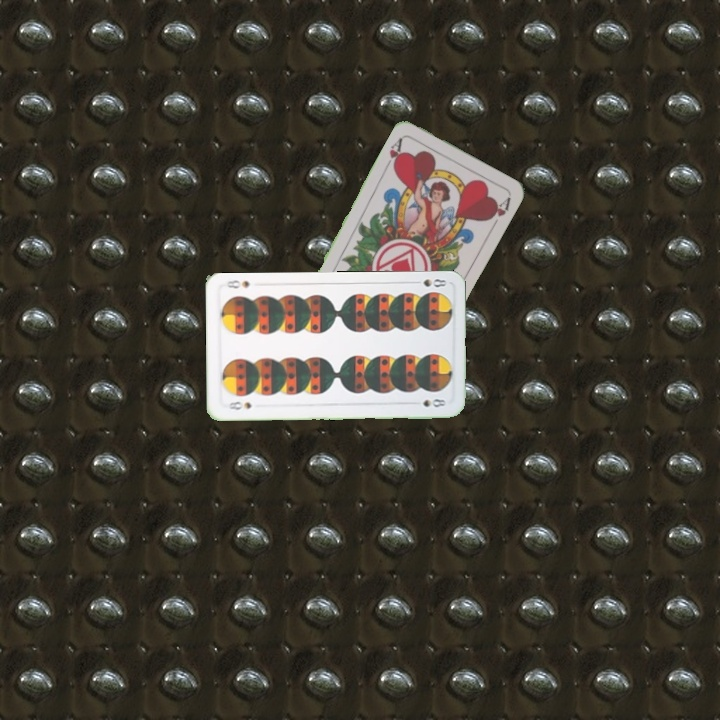HA: (381, 134, 405, 172)
S8: (408, 274, 449, 290), (225, 397, 254, 412)
